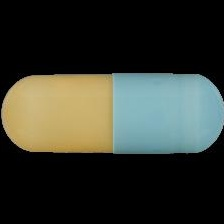0378-2590: (0, 0, 224, 224)
